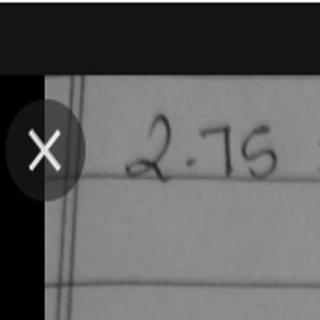.: (183, 155, 201, 171)
2: (129, 113, 174, 185)
5: (242, 122, 280, 180)
7: (201, 122, 232, 176)
